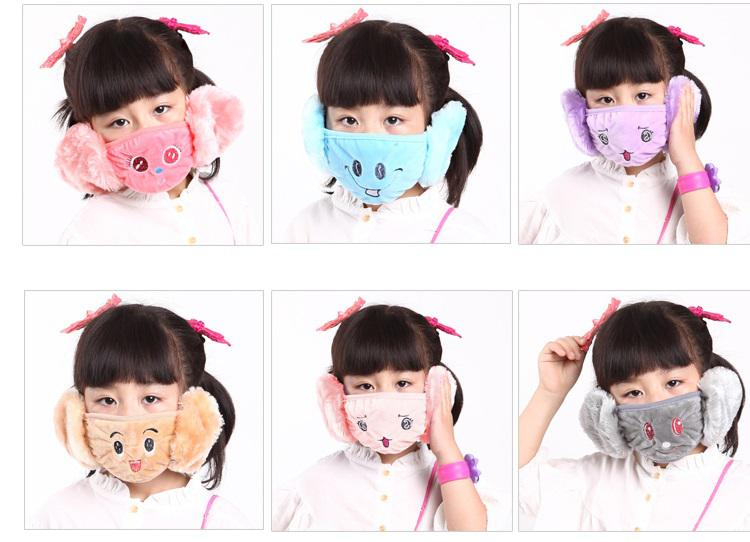OK: (88, 85, 196, 193), (323, 96, 430, 203), (79, 379, 180, 480), (585, 72, 679, 166), (612, 358, 706, 452), (342, 369, 426, 453)
